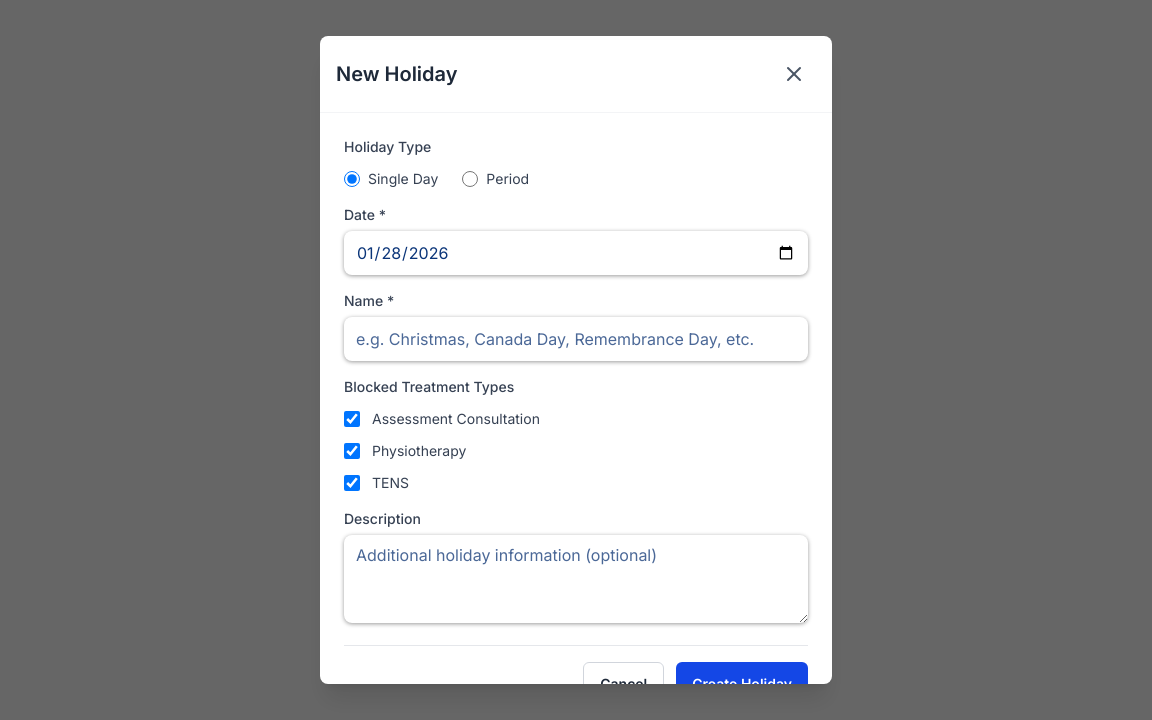
Scenario: HolidayFormModal › Holiday Period Mode › should switch to period inputs when period mode selected
Expected: the date field labelled "Date *" is shown, [344,231,808,275]
Expected: the field labelled "Start Date *" is not shown
Click the text "Period": (496, 179) [462,169,529,189]
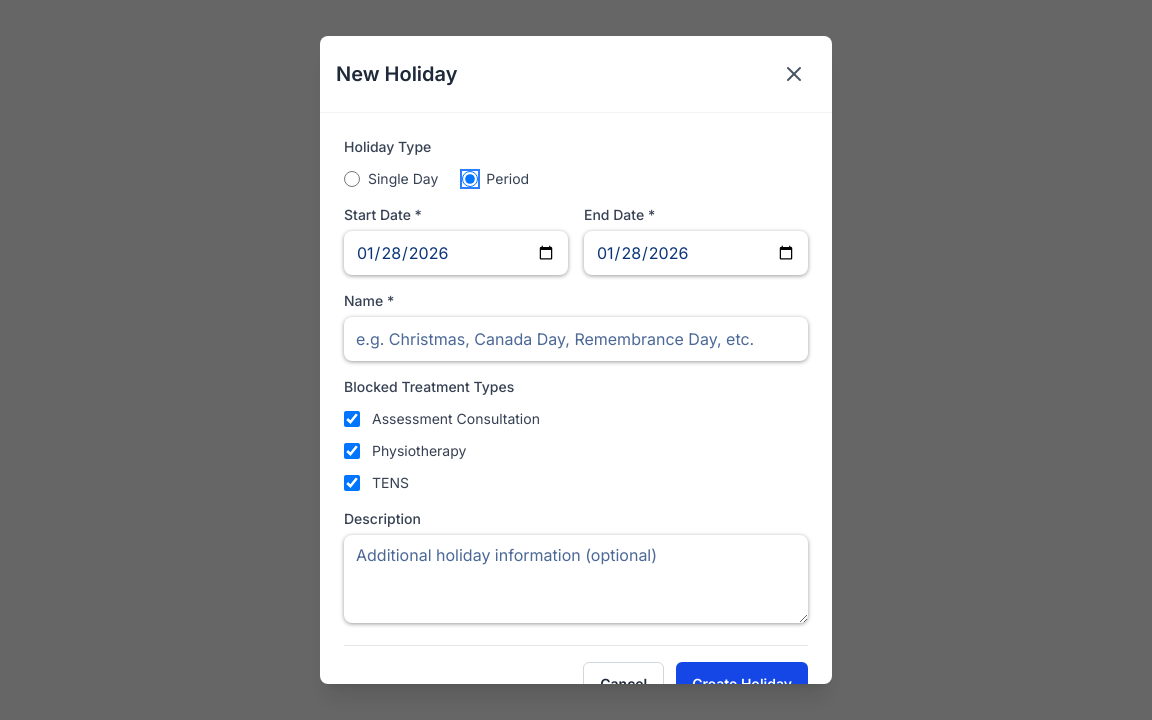
Result: the date field labelled "Start Date *" is shown at [344,231,568,275]
Result: the date field labelled "End Date *" is shown at [584,231,808,275]
